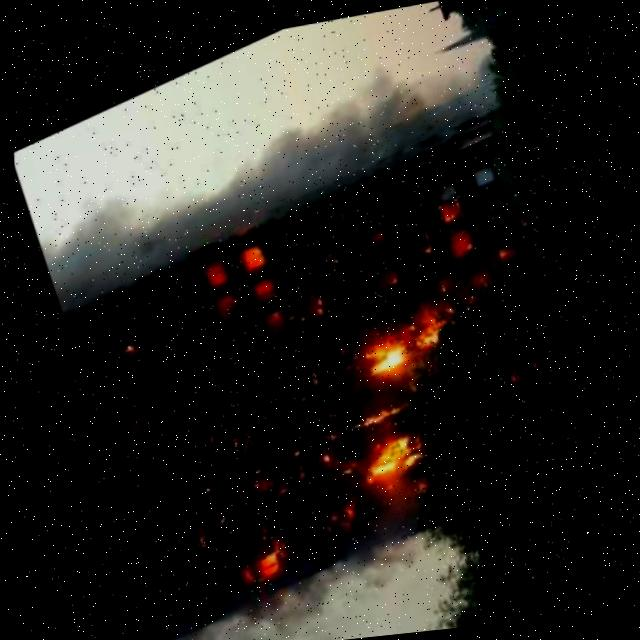fire: (334, 462, 451, 582), (185, 231, 310, 339), (336, 299, 456, 386), (334, 418, 427, 497), (245, 533, 296, 591)
